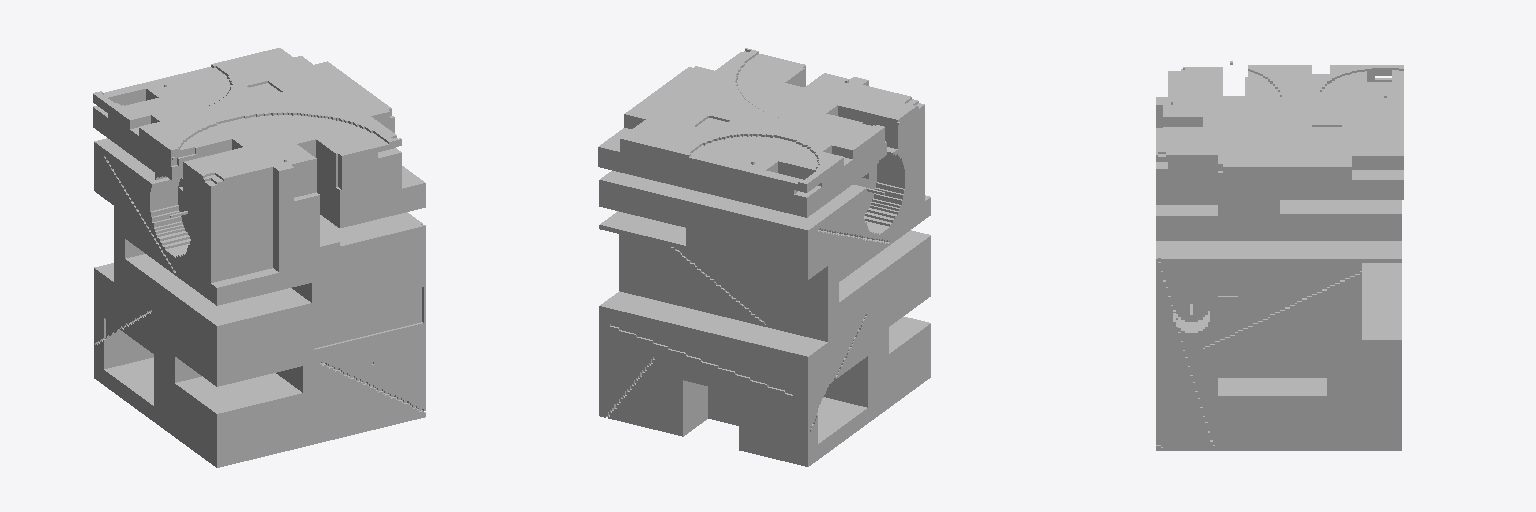
File: 实体屋.obj
3 renders of one model, left to right at view 1: azimuth 30°, elevation 25°; view 2: azimuth 150°, elevation 25°; view 3: azimuth 270°, elevation 25°, orthographic.
Size of the model in its own units: 100 by 126 by 100.